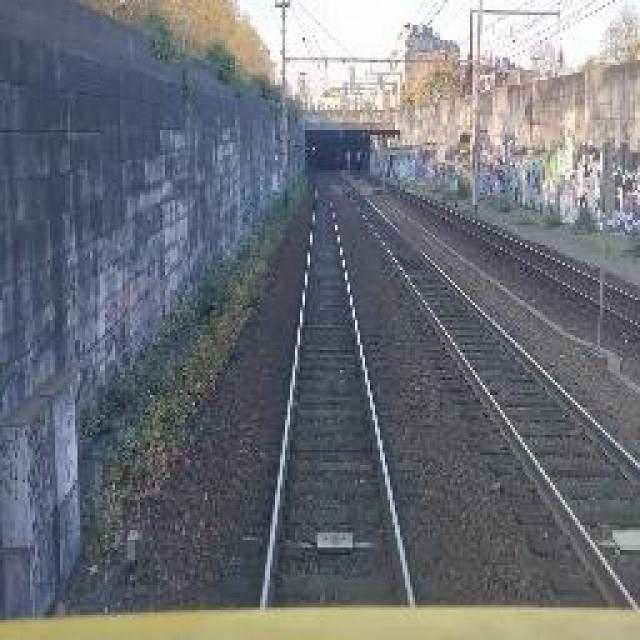rail: (232, 170, 441, 607)
